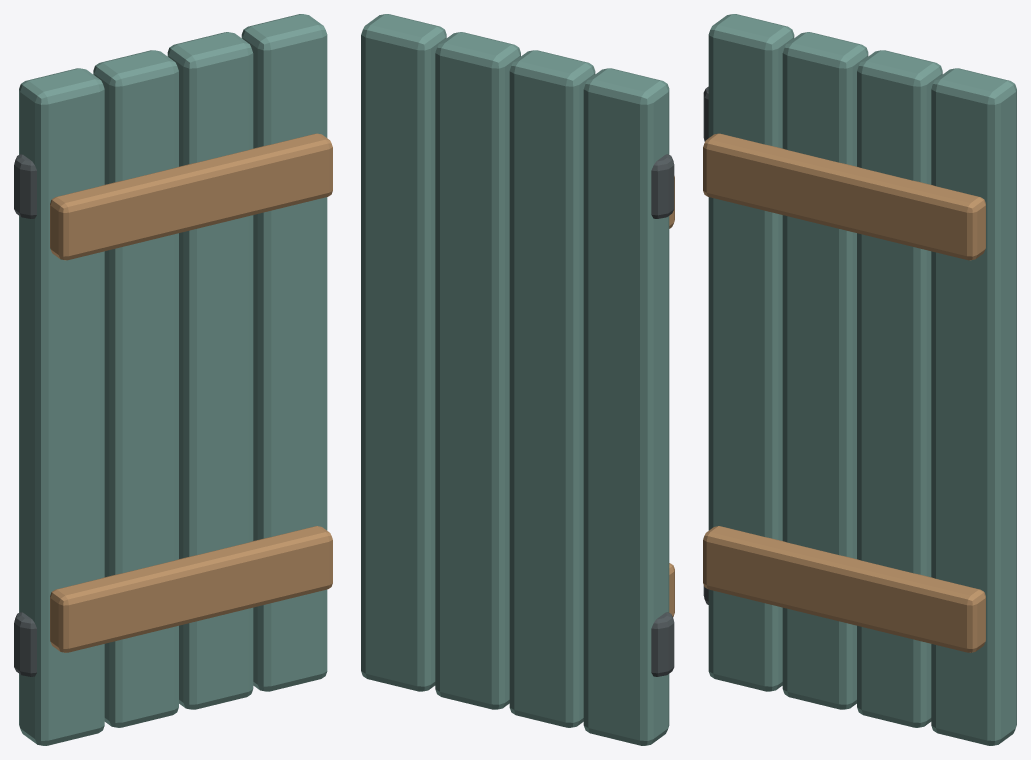
File: shutter_sage.glb
The picture shows the model from 3 angles, left to right: view 1: azimuth 30°, elevation 25°; view 2: azimuth 150°, elevation 25°; view 3: azimuth 330°, elevation 25°; orthographic projection.
Parts seen in each view (by area): view 1: shutter_sage; view 2: shutter_sage; view 3: shutter_sage.
Boxes of the visible parts, <box> form: shutter_sage: <box>14,14,332,745</box>; shutter_sage: <box>361,14,674,745</box>; shutter_sage: <box>703,14,1016,745</box>.
Bounding box in the file's own units: 0.3865 × 0.8 × 0.085.
